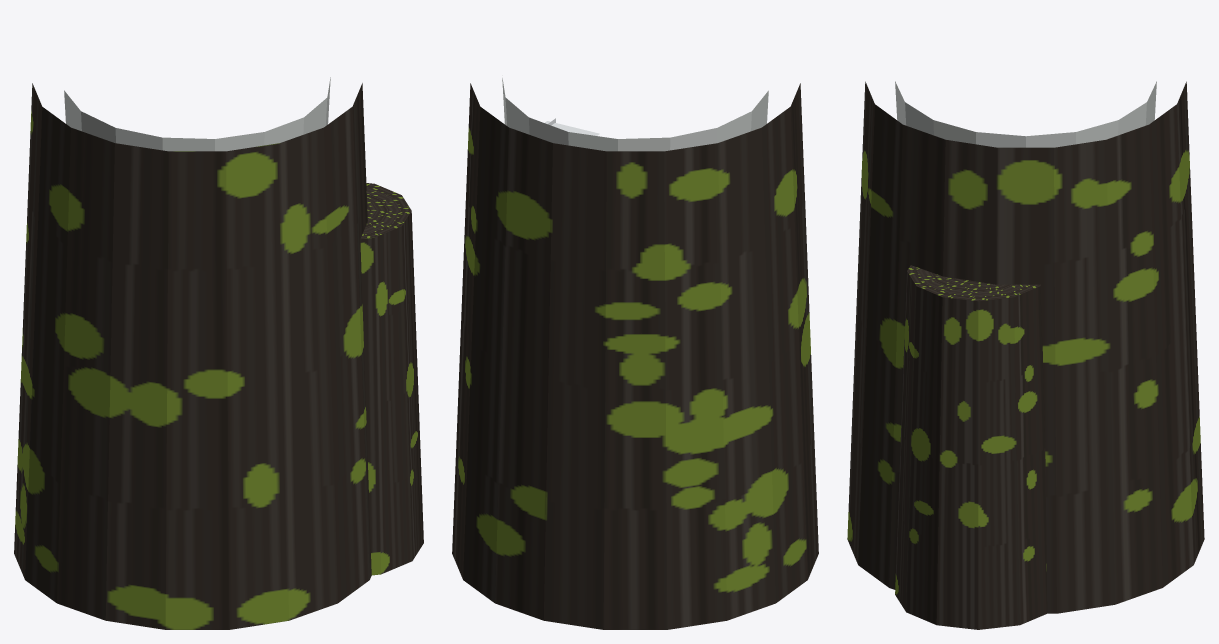
The model's file is wastafel_batang_kayu.glb.
3 renders of one model, left to right at view 1: azimuth 30°, elevation 25°; view 2: azimuth 150°, elevation 25°; view 3: azimuth 270°, elevation 25°, orthographic. The views are drawn at different scales.
Visible parts, largest first — view 1: Kulit_Kayu_Wastafel, Cekungan_Wastafel_Semen; view 2: Kulit_Kayu_Wastafel, Cekungan_Wastafel_Semen; view 3: Kulit_Kayu_Wastafel, Cekungan_Wastafel_Semen.
Part boxes in pixels (x1,y1,x2,y2): Kulit_Kayu_Wastafel: (14,83,423,629); Cekungan_Wastafel_Semen: (64,77,330,151); Kulit_Kayu_Wastafel: (452,83,818,629); Cekungan_Wastafel_Semen: (502,78,768,151); Kulit_Kayu_Wastafel: (847,81,1204,629); Cekungan_Wastafel_Semen: (895,81,1156,147).
Bounding box in the file's own units: 0.6554 × 0.85 × 0.6.
3 materials, 1 textured.
